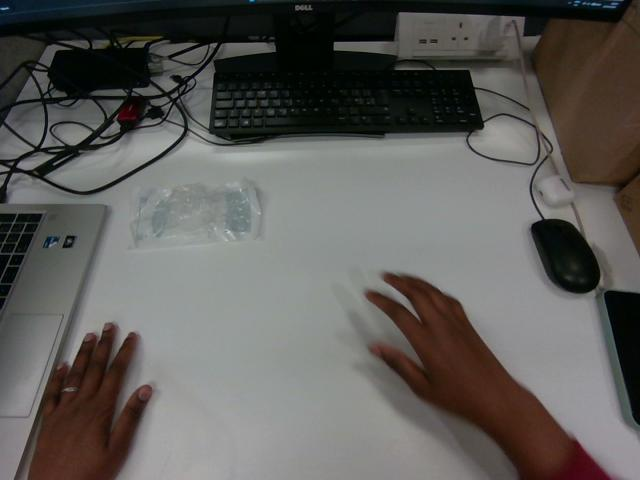gallipot: (130, 179, 260, 247)
